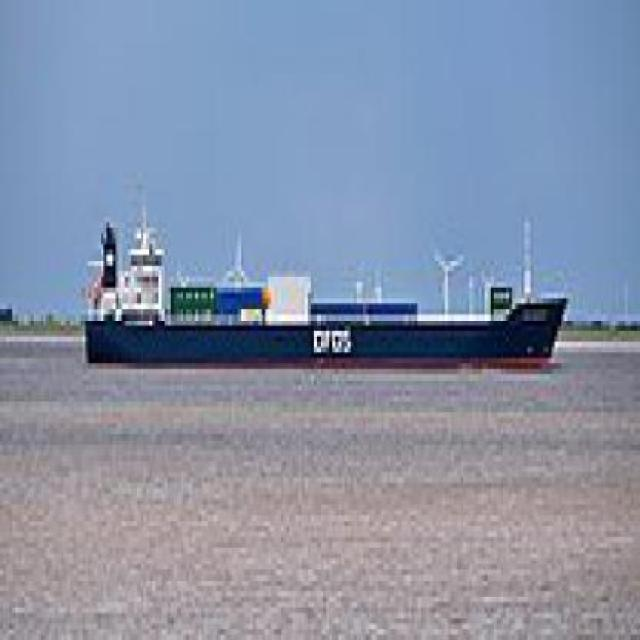container: (80, 175, 574, 375)
